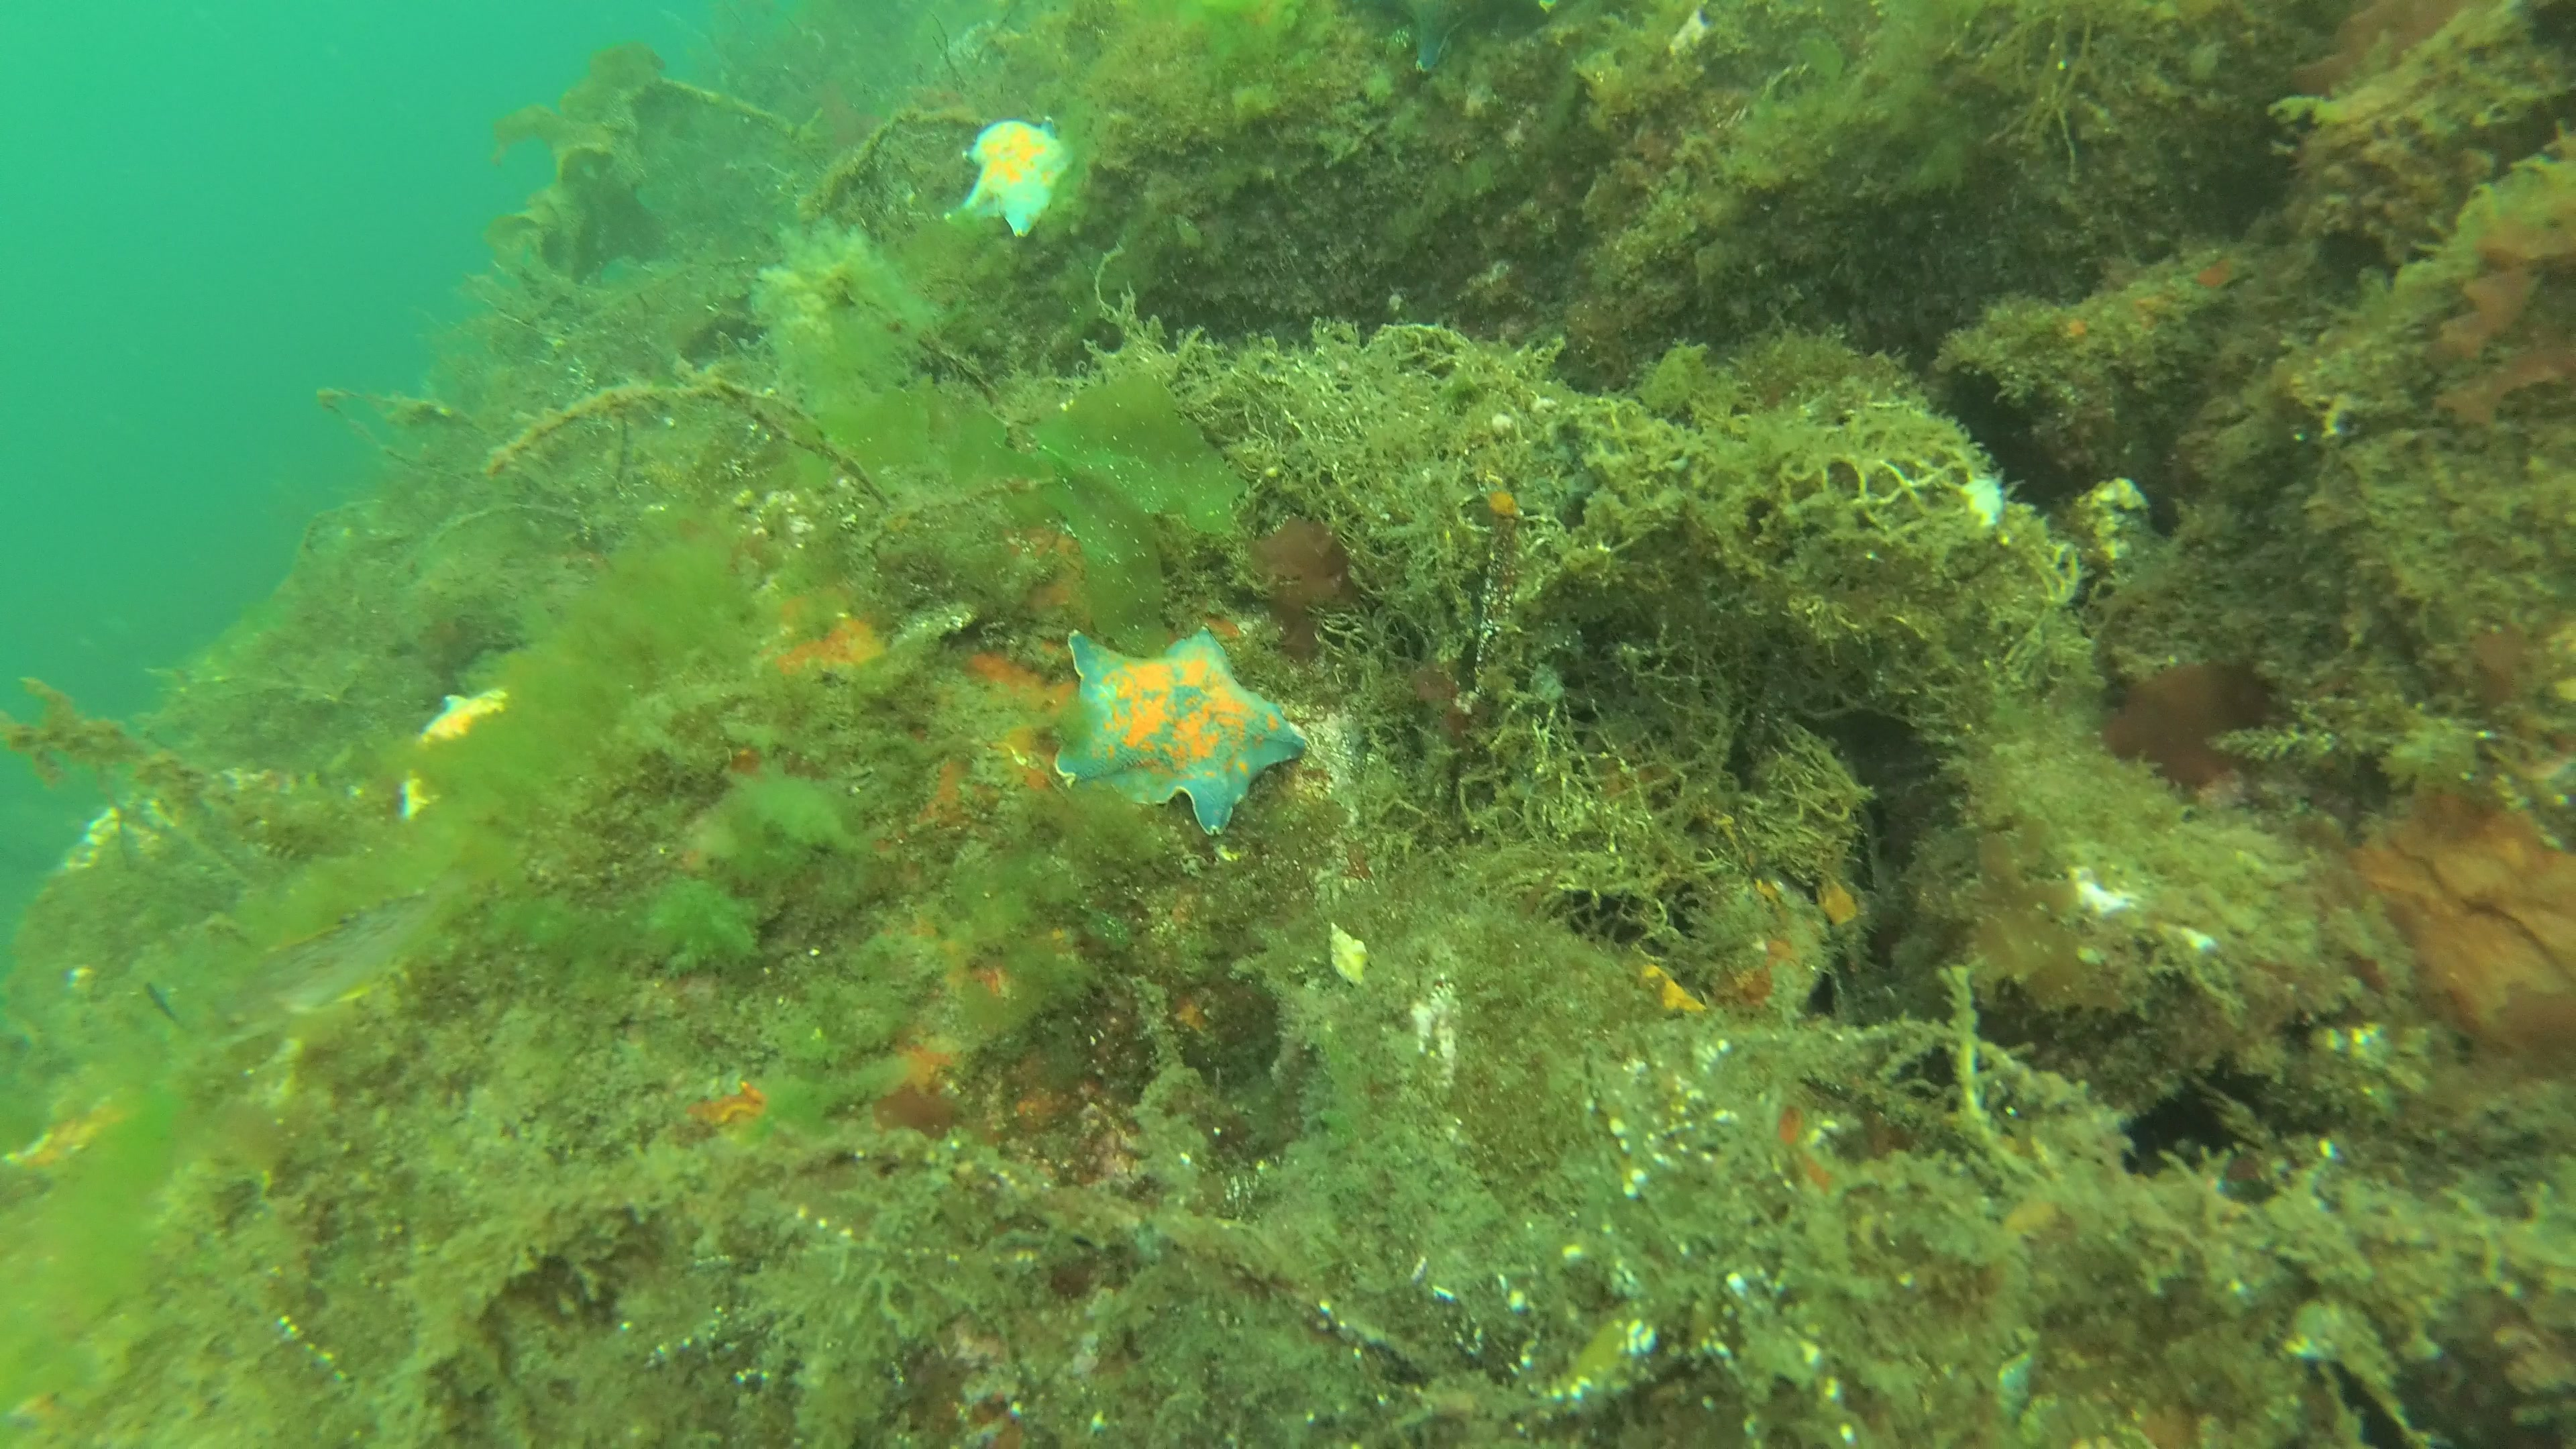starfish: (1053, 625, 1309, 840), (938, 115, 1083, 244), (396, 692, 524, 826), (1364, 0, 1523, 73)
